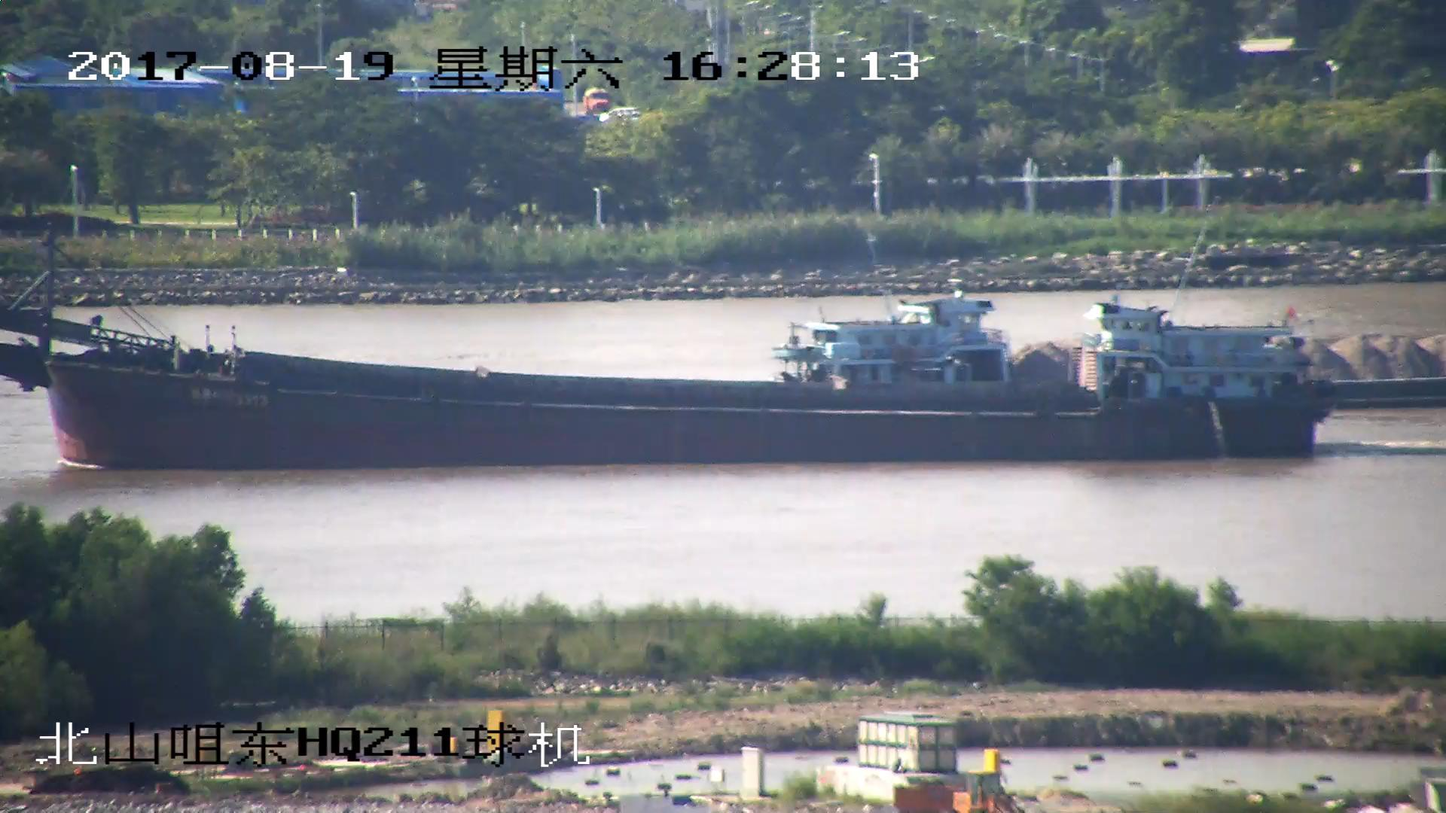bulk cargo carrier: (0, 254, 1332, 462)
ore carrier: (775, 306, 1445, 416)
